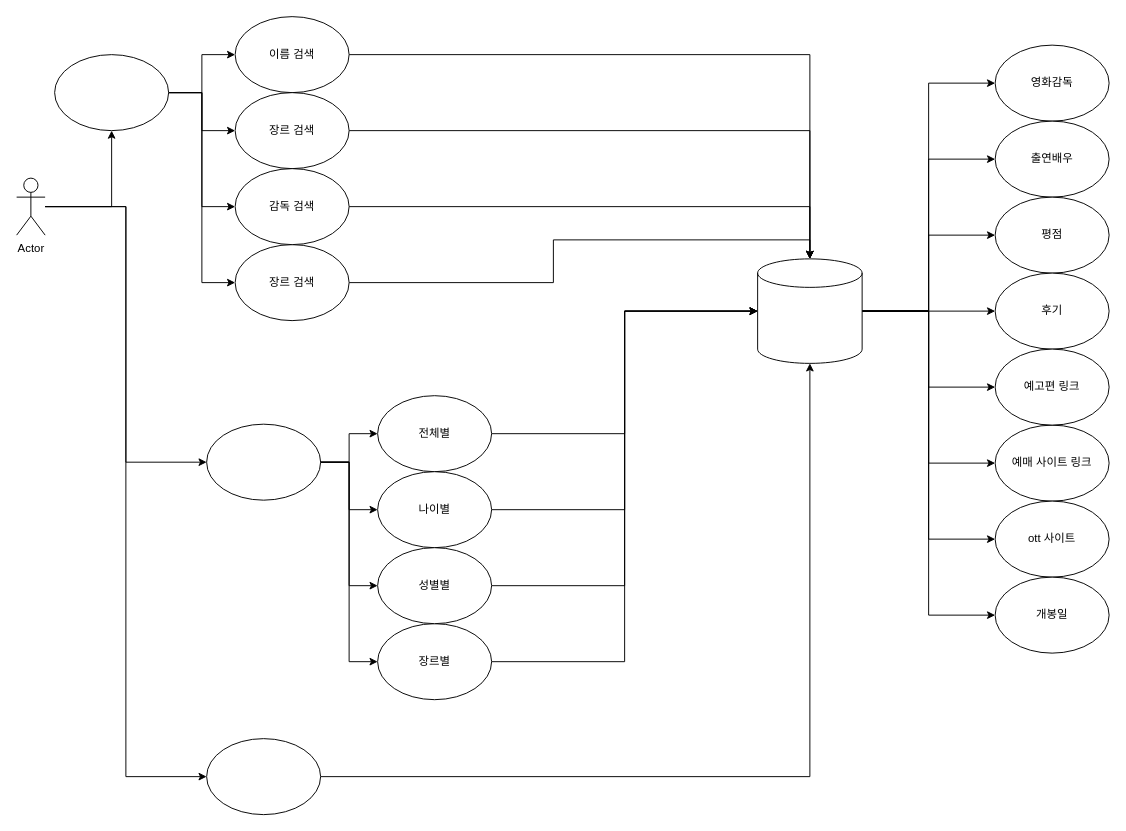
Image size: 1126x831. Some labels were removed from this diagram. Here are the shapes that lost their labels. From the top down, the centre of each, then its label:
At (x=111, y=92): "영화 검색하기".
At (x=809, y=310): "영화 정보 테이블".
At (x=263, y=461): "영화 순위 보기".
At (x=263, y=776): "개봉 예정 영화".
